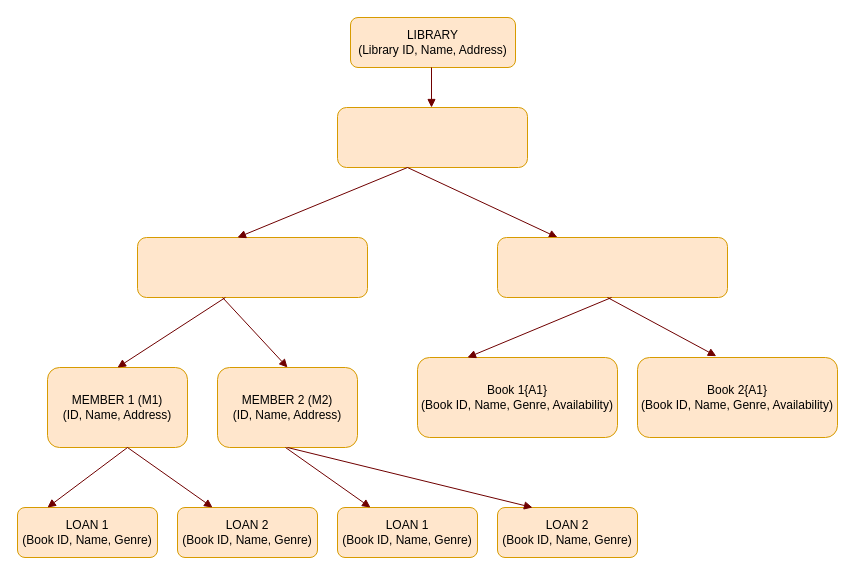
The diagram is 855 pixels wide and 575 high, and some of its shapes have lost their labels. The centre of each missing label's shape, as x and y in pixels:
LIST OF BOOKS (Books ID, Name, Genre, Self No.): (612,267)
LIST OF MEMBERS (Members ID, Name, Address): (252,267)
STAFF (Staff ID, Name, Role, Auth Key): (432,137)
